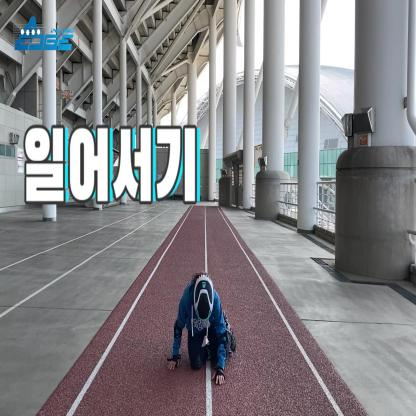Fall_Down: (167, 274, 238, 386)
